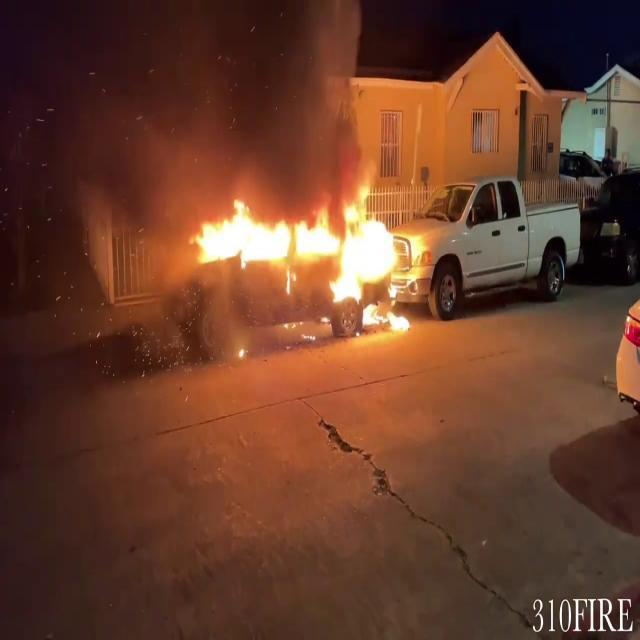Fire: (188, 182, 422, 332)
Smoke: (82, 0, 373, 247)
